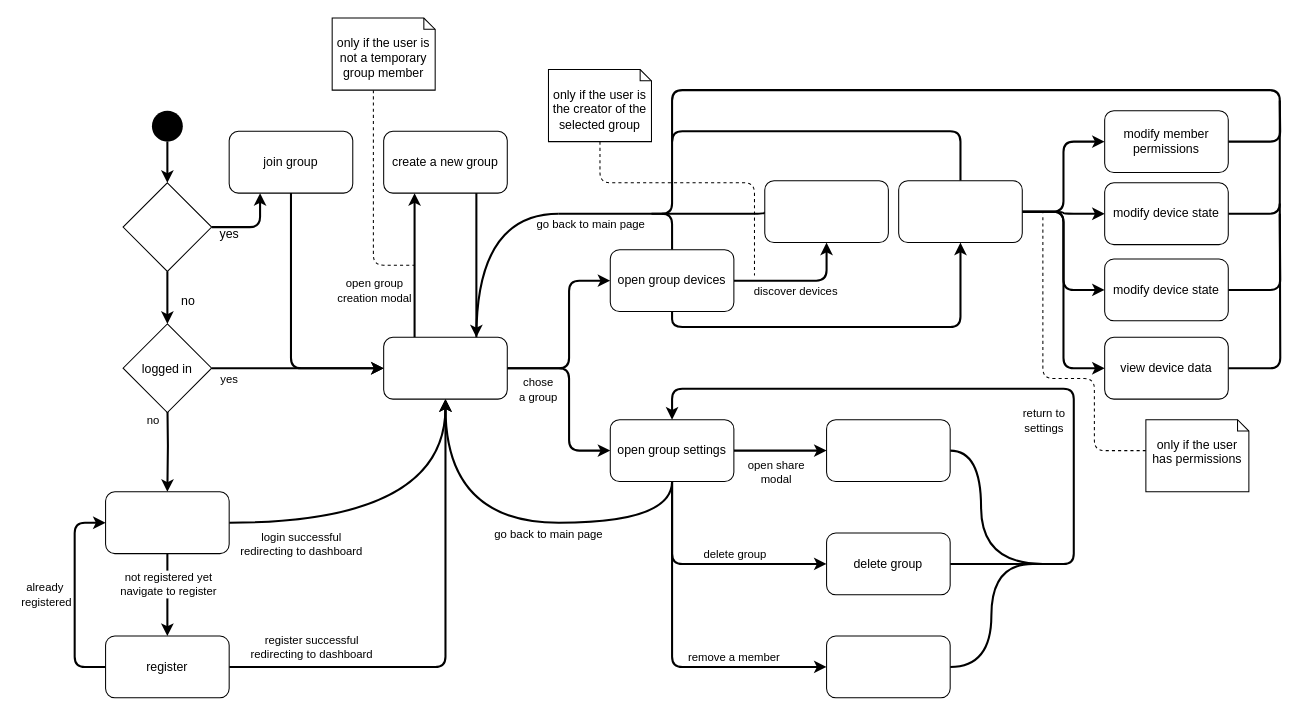
This 1300x716 diagram has some shape labels left out. Each missing label, with the centre of its shape:
"add new device" goes at point (826, 211).
"is group joining link" goes at point (167, 226).
"login" goes at point (167, 522).
"open device control page" goes at point (960, 211).
"remove a group member" goes at point (888, 666).
"share group joining link" goes at point (888, 450).
"view user groups" goes at point (445, 367).
